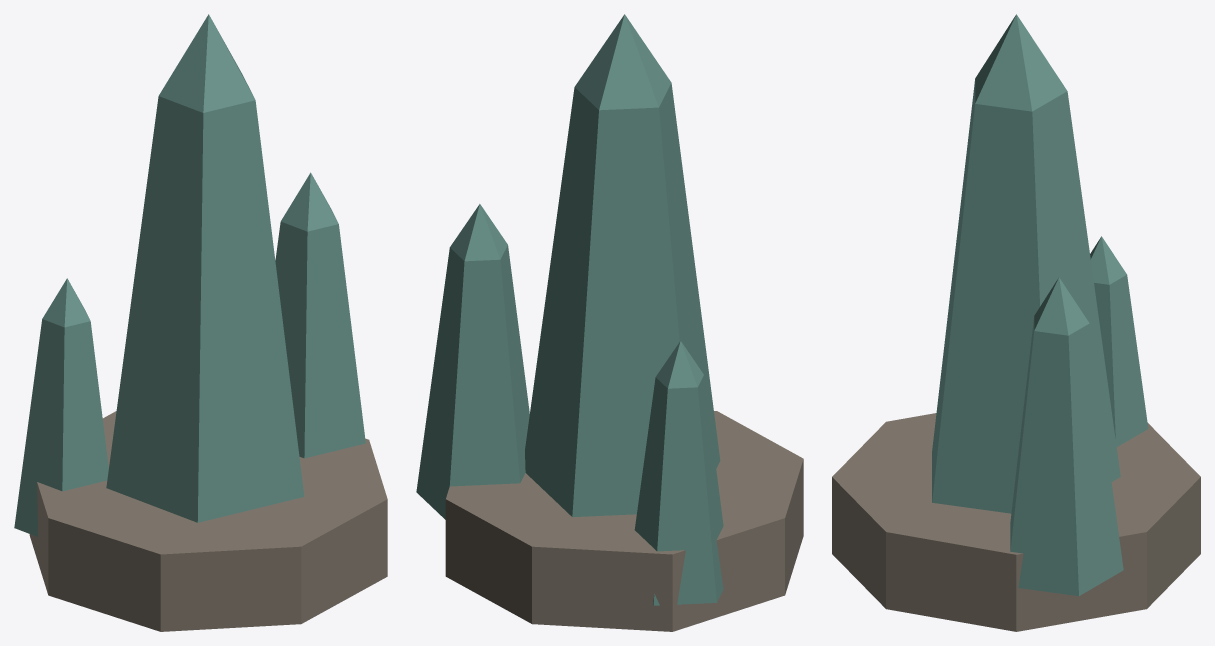
Rendered from crystal.glb.
3 views of the same model, side by side, from view 1: azimuth 30°, elevation 25°; view 2: azimuth 150°, elevation 25°; view 3: azimuth 270°, elevation 25° (orthographic).
Visible parts, largest first — view 1: crystal; view 2: crystal; view 3: crystal.
Part boxes in pixels (bbox=[...]): crystal: bbox=[14, 14, 387, 631]; crystal: bbox=[416, 14, 803, 631]; crystal: bbox=[832, 14, 1200, 631].
Bounding box in the file's own units: 1.37 × 2.1 × 1.3.
